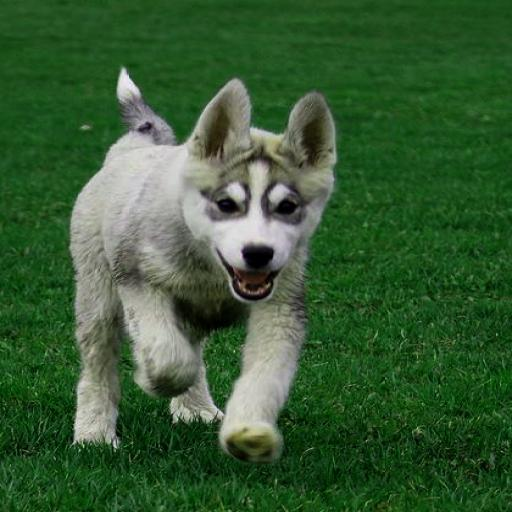dog_face: (194, 89, 325, 292)
